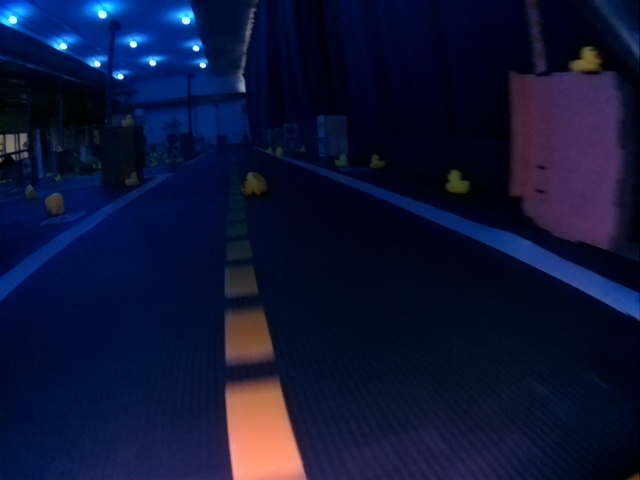Duckie: (570, 45, 603, 73), (45, 192, 66, 215), (24, 184, 35, 195), (338, 153, 348, 163), (275, 148, 281, 153)
